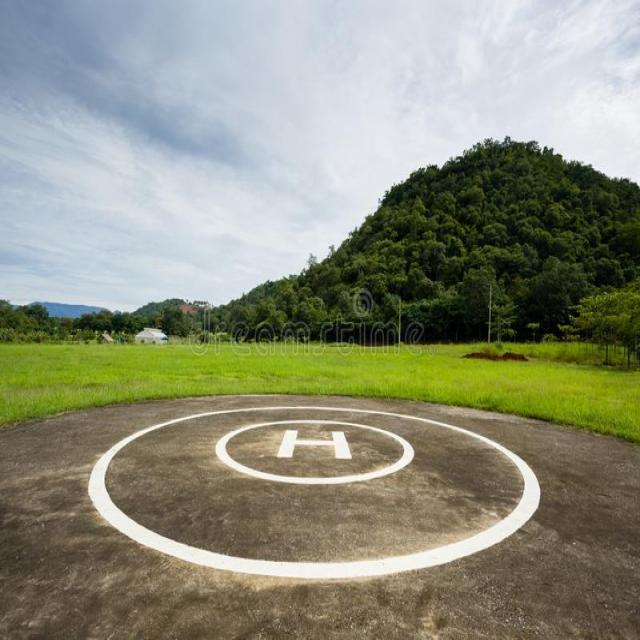helipad: (210, 412, 416, 486)
